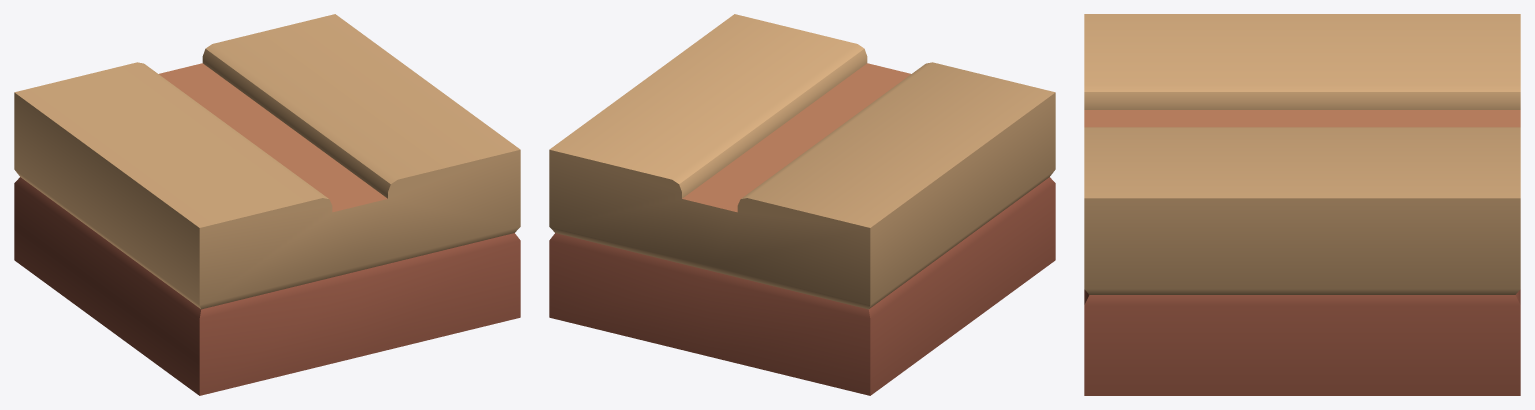
Rendered from kaykit-square-sand-roadb-detail.glb.
3 renders of one model, left to right at view 1: azimuth 30°, elevation 25°; view 2: azimuth 150°, elevation 25°; view 3: azimuth 270°, elevation 25°, orthographic. The views are drawn at different scales.
Parts seen in each view (by area): view 1: square_sand_roadB_detail; view 2: square_sand_roadB_detail; view 3: square_sand_roadB_detail.
Part boxes in pixels (box(x1,y1,x2,y2)): square_sand_roadB_detail: box(14, 14, 520, 395); square_sand_roadB_detail: box(549, 14, 1055, 395); square_sand_roadB_detail: box(1084, 14, 1520, 395).
Size of the model in its own units: 2 by 0.9998 by 2.
